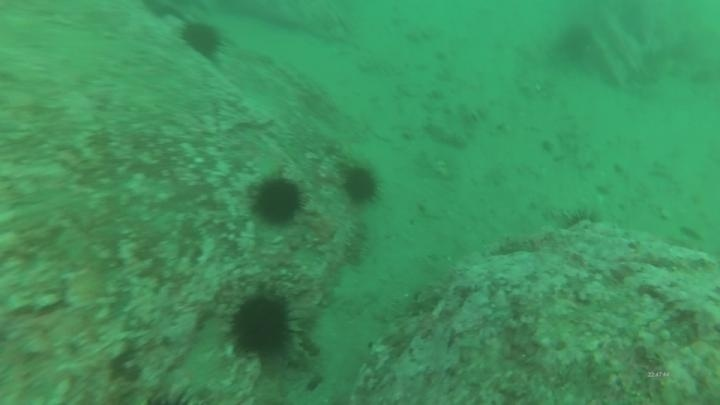echinus: (224, 286, 300, 363), (248, 172, 307, 229), (178, 19, 226, 61), (339, 162, 383, 207), (554, 21, 596, 62), (554, 204, 600, 235)
holothurian: (488, 227, 557, 258), (340, 215, 372, 270)
